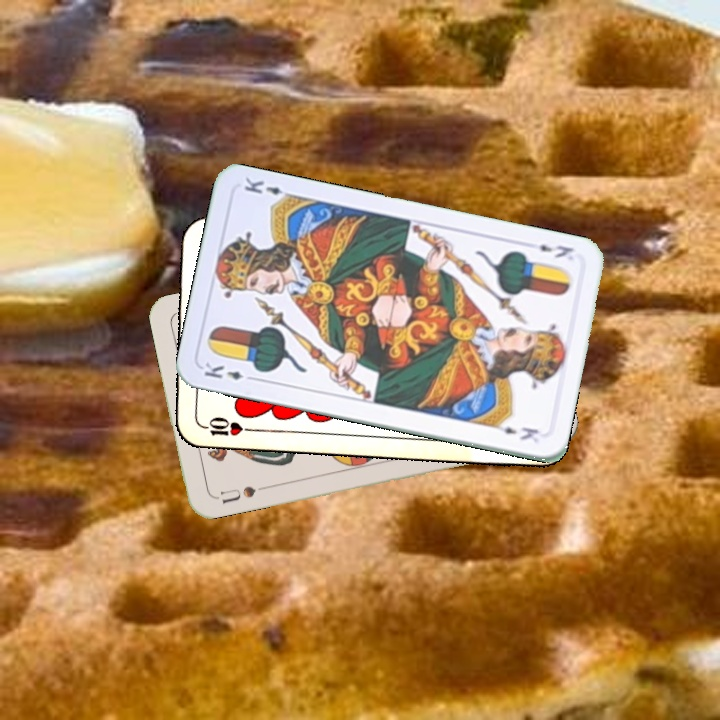EK: (200, 358, 259, 383), (535, 240, 576, 261)
H10: (196, 412, 255, 439)
SU: (210, 482, 269, 507)
